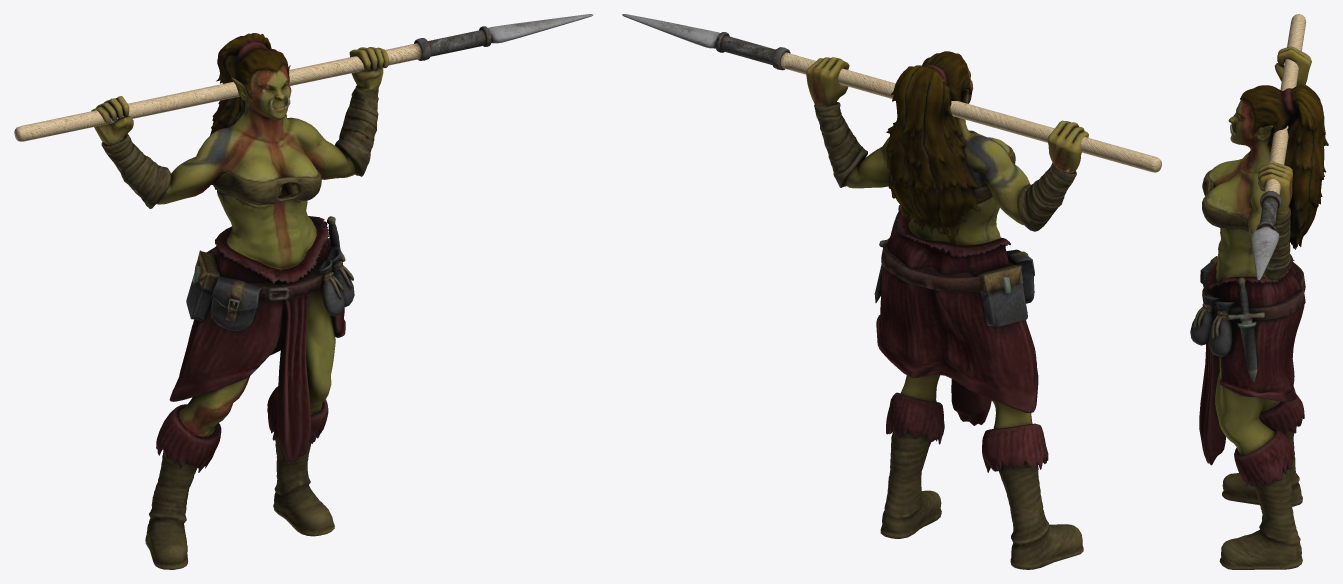
File: MZ4250 - Half Orc Female Barbarian_red_spear.glb
3 views of the same model, side by side, from view 1: azimuth 30°, elevation 25°; view 2: azimuth 150°, elevation 25°; view 3: azimuth 270°, elevation 25° (orthographic). The views are drawn at different scales.
Visible parts, largest first — view 1: Spear.001; view 2: Spear.001; view 3: Spear.001.
Part boxes in pixels (bbox=[...]): Spear.001: bbox=[14, 14, 593, 569]; Spear.001: bbox=[622, 14, 1161, 569]; Spear.001: bbox=[1190, 14, 1328, 569].
Bounding box in the file's own units: 49.66 × 40.82 × 11.15.
Materials: 2 (2 with a texture image).
